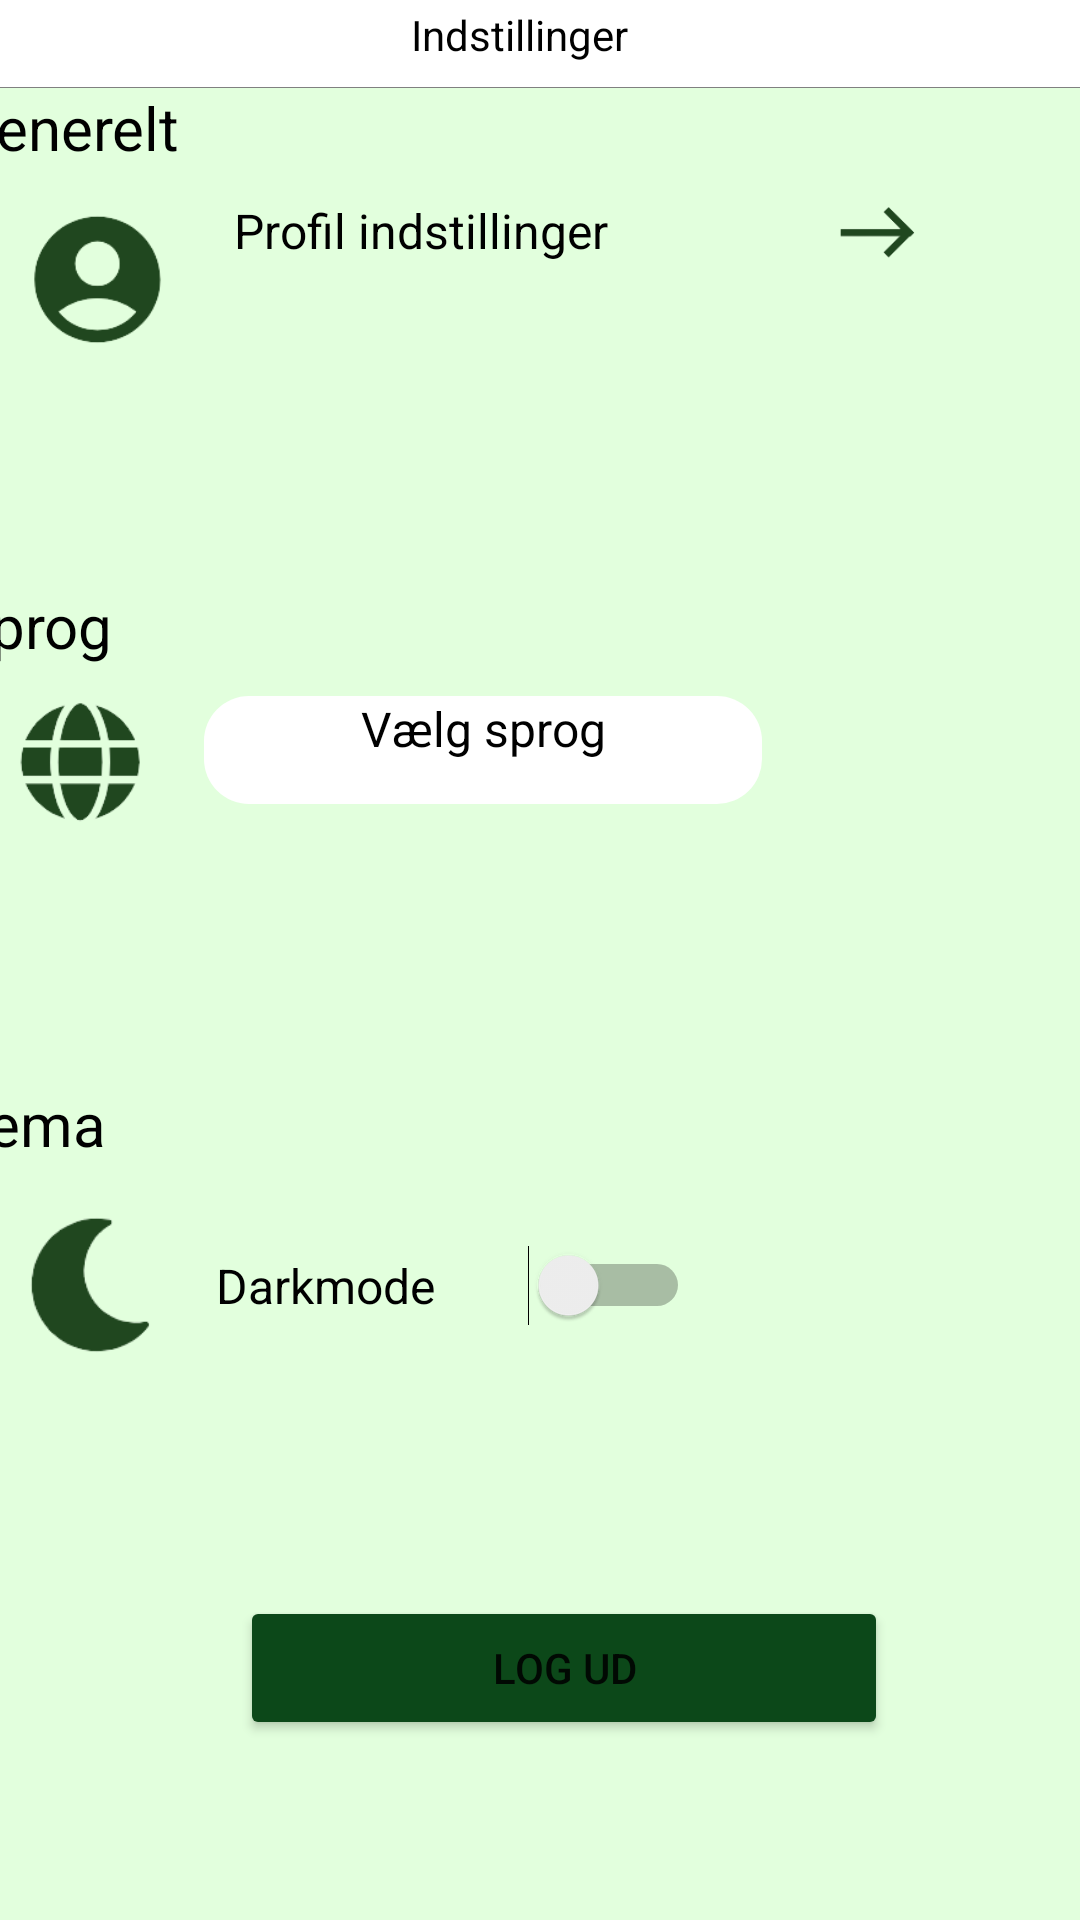

Icon click points for this 1080px×1920px phone screenshot, format [x,y]:
pil: [877,232]
